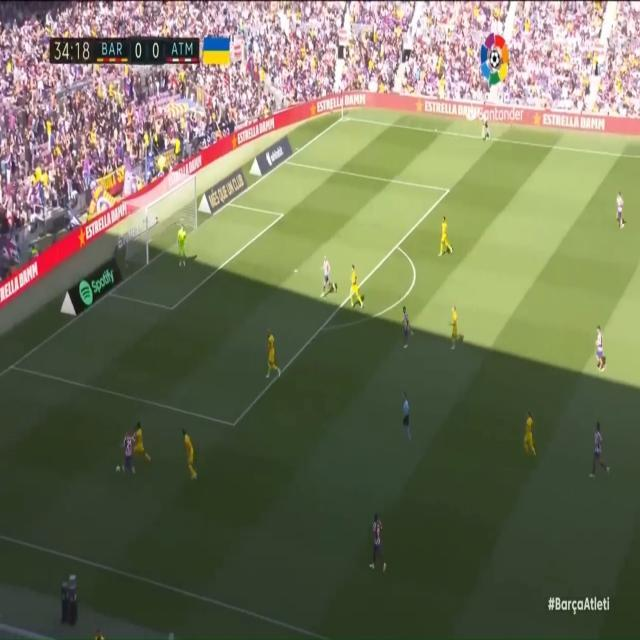ball: (114, 459, 124, 480)
goalkeeper: (172, 220, 191, 272)
player: (357, 500, 385, 574), (588, 418, 611, 487), (262, 325, 285, 388), (176, 427, 199, 483), (130, 416, 151, 471), (522, 398, 540, 459), (398, 294, 416, 351), (589, 320, 607, 376), (118, 428, 136, 480), (448, 298, 464, 356), (344, 257, 361, 307), (613, 184, 629, 236), (437, 211, 454, 259), (320, 251, 335, 304)
referee: (397, 381, 418, 449), (475, 108, 492, 141)
